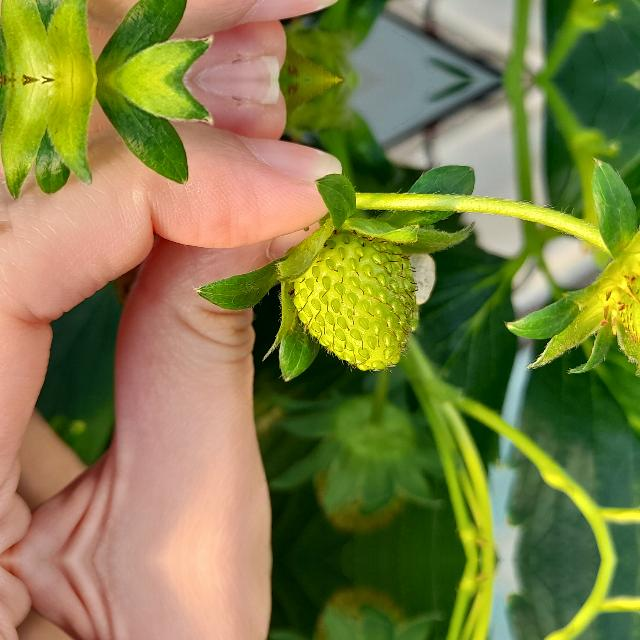Health_25: (289, 229, 419, 373)
